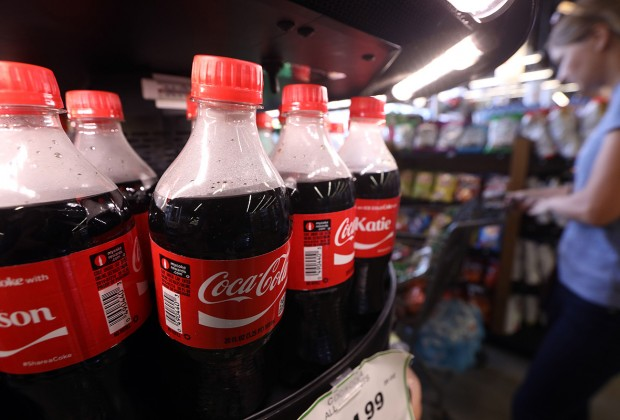Plastic bottle: (4, 54, 169, 394), (124, 53, 297, 351), (258, 77, 344, 362), (325, 62, 411, 333)
